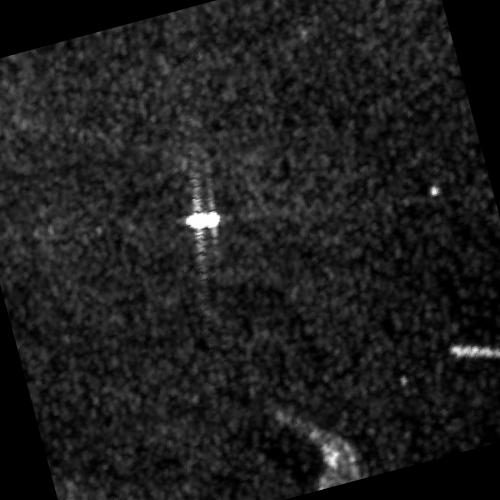ship: (184, 208, 222, 231)
